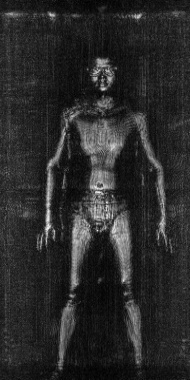gun: (65, 88, 93, 114)
